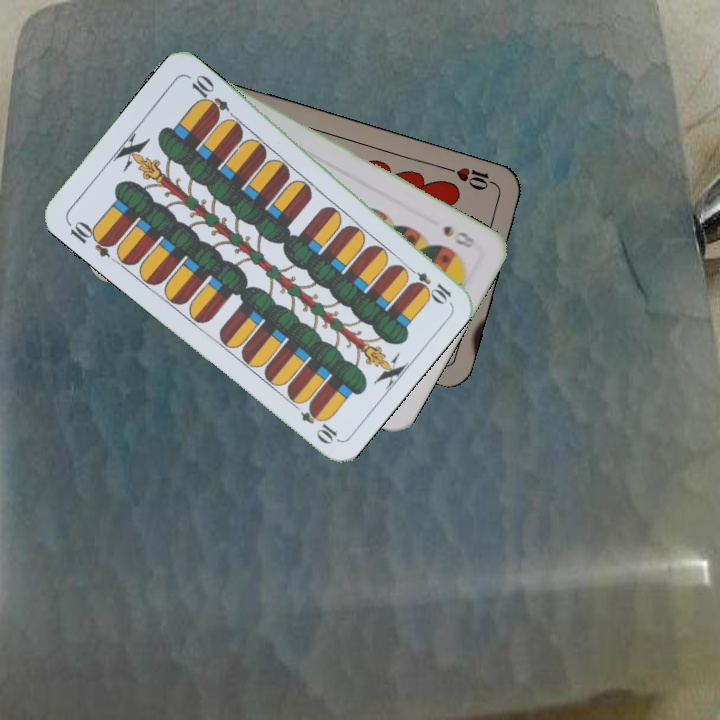E10: (63, 216, 118, 260), (401, 261, 454, 306)
H10: (443, 163, 501, 193)
S8: (439, 221, 479, 251)
